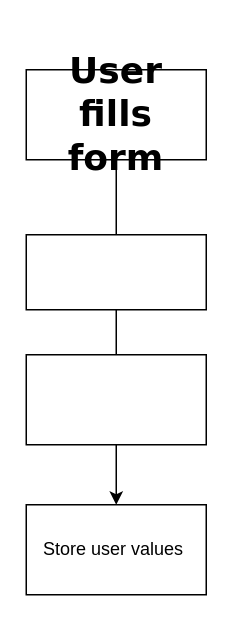
This 233x621 diagram has some shape labels left out. Here are the shapes that lost their labels. From the top down, the box of each, then its label:
(25, 233, 206, 310): Decode Json
(25, 353, 206, 445): hashPassword
